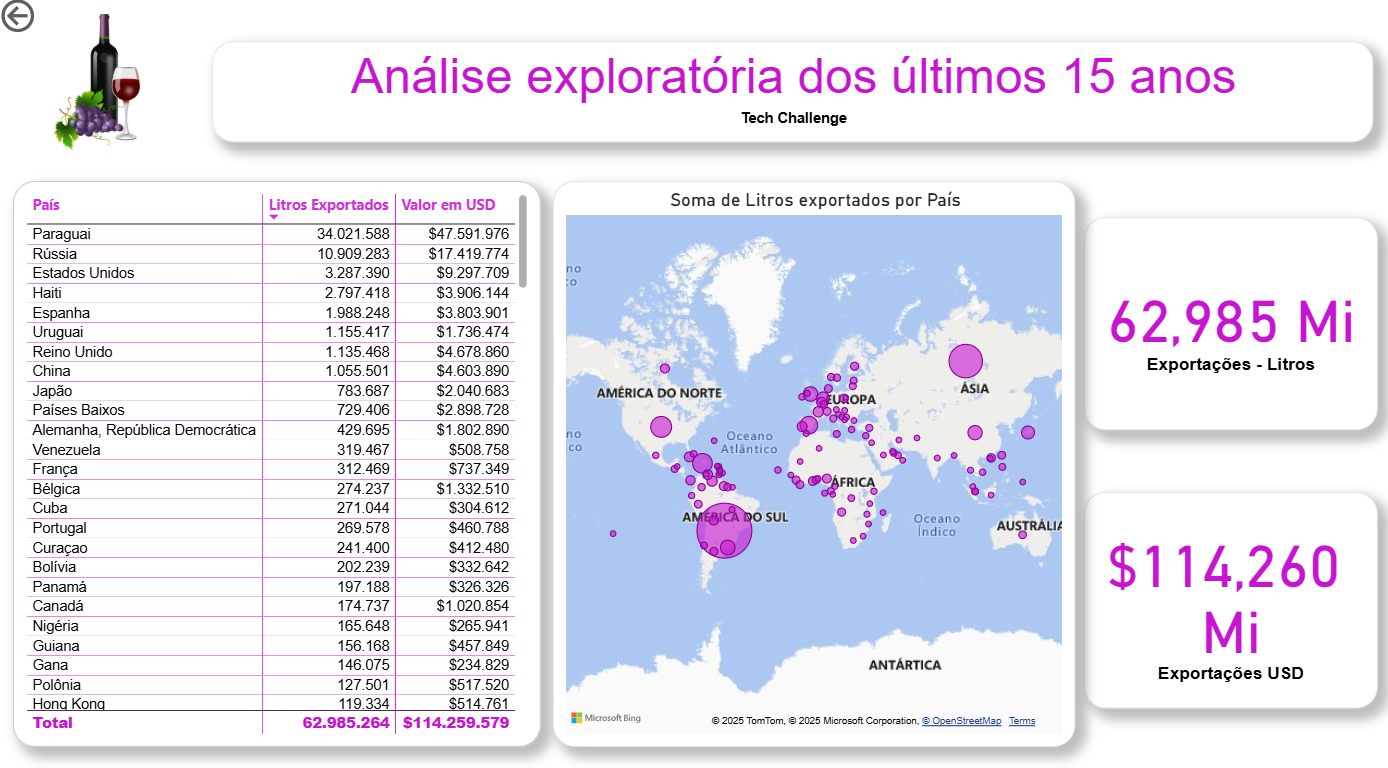

What the dashboard file says about the page in this screenshot:
{"tool":"powerbi","page":{"name":"Top ","canvas":[1280,720],"ordinal":4},"visuals":[{"type":"tableEx","fields":{"Values":["Exportacao.País","Sum(Exportacao.Litros exportados)","Sum(Exportacao.Valor em USD)"]},"box":[15.6,172.2,485.3,520.4],"z":0},{"type":"lineChart","fields":{"Y":["Sum(Exportacao.Valor em USD)"],"Category":["Exportacao.Ano"]},"box":[501.1,172.2,755.6,520],"z":1000},{"type":"textbox","title":"Melhores Parceiros Comerciais","box":[198.4,42.8,1067,93.4],"z":2000},{"type":"image","box":[12.6,6.8,160.5,148.8],"z":3000}]}

Visuals, with their boxes in screenshot pixels (x1, y1, x2, y2), scaled from the page's 1280x720 canvas onto the 1388x768 screenshot:
tableEx - Exportacao.País x Sum(Exportacao.Litros exportados): 17,184,543,739
lineChart - Sum(Exportacao.Valor em USD) x Exportacao.Ano: 543,184,1363,738
"Melhores Parceiros Comerciais" textbox: 215,46,1372,145
image: 14,7,188,166
